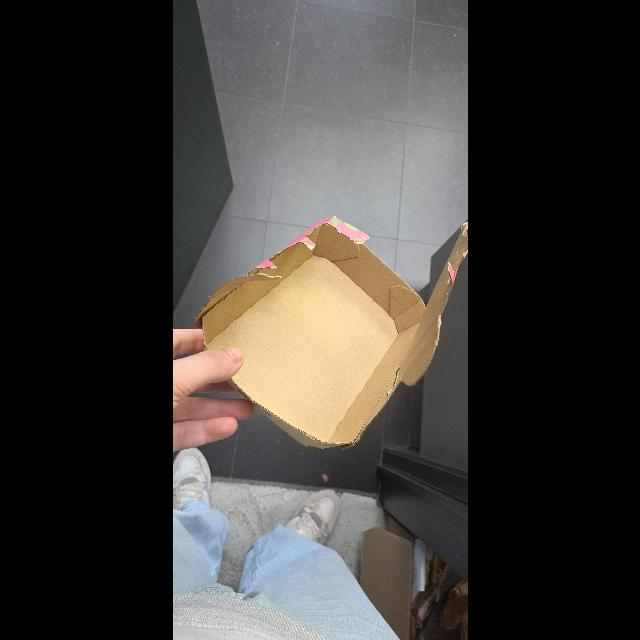Cardboard: (192, 216, 468, 450)
